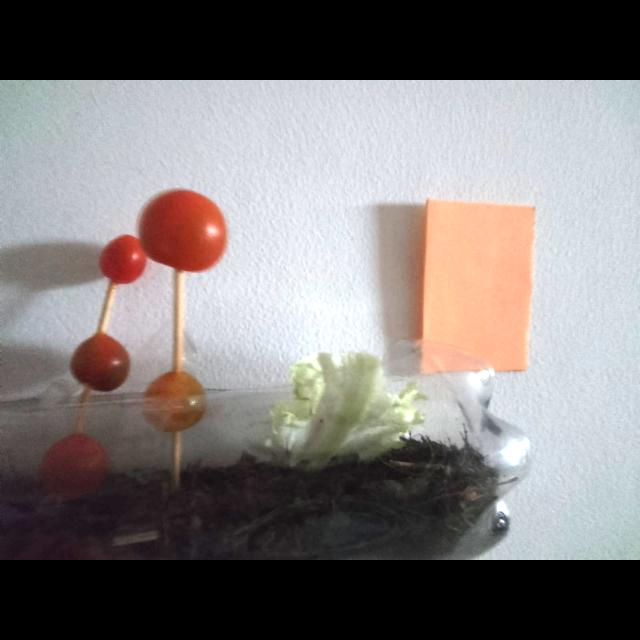card: (423, 200, 534, 370)
fruit_maturation: (144, 371, 206, 432)
fully_grown: (71, 333, 129, 391), (100, 235, 146, 284)
